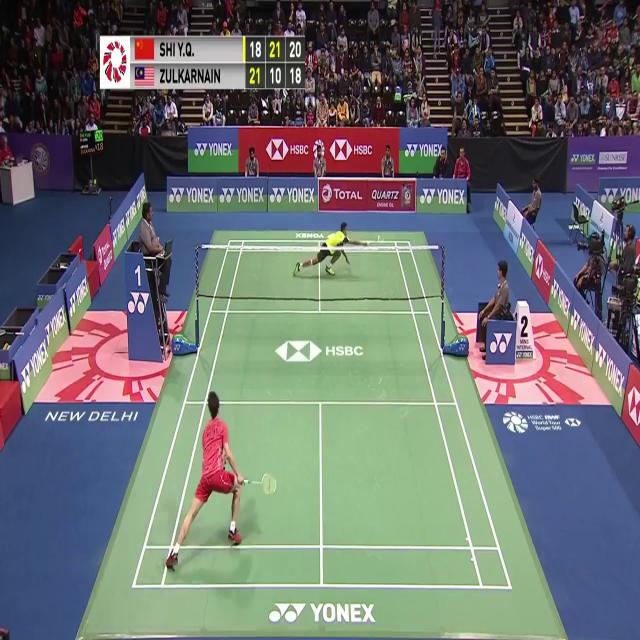Shuttlecock: (375, 232, 381, 243)
